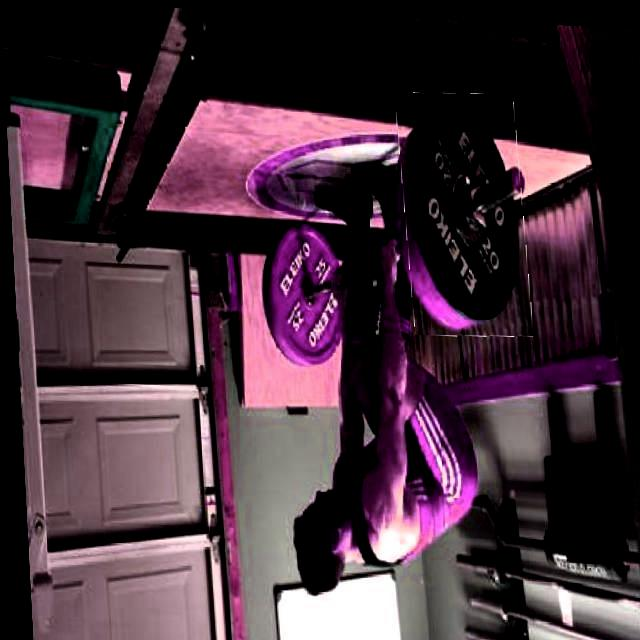barbell: (397, 86, 529, 335)
